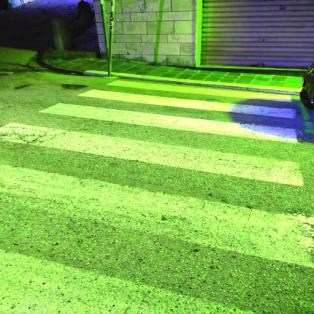Paso de Cebra: (0, 100, 310, 188)
